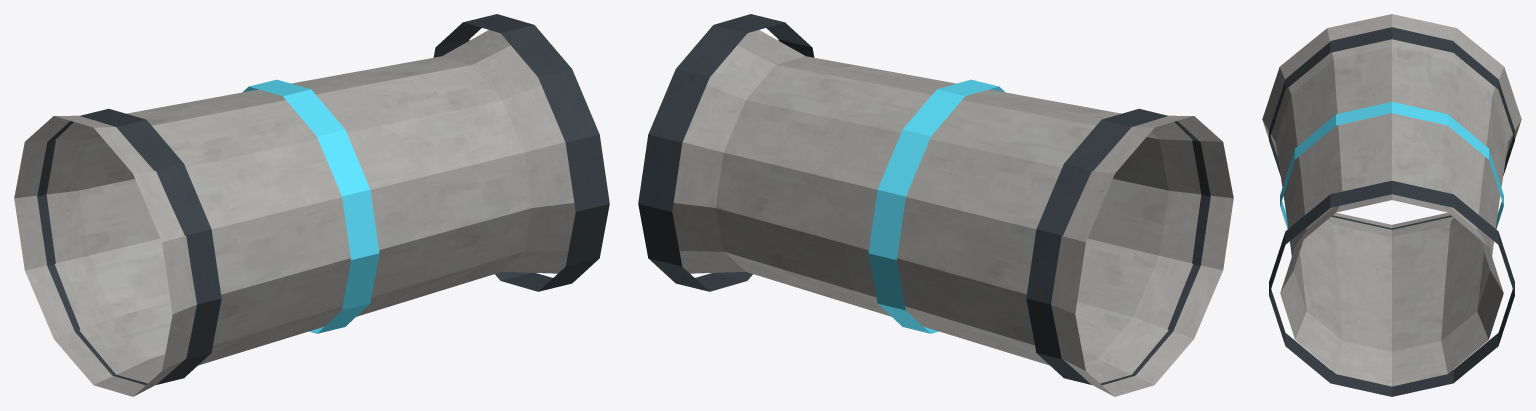
Rendered from eq_future_2_arm.glb.
3 renders of one model, left to right at view 1: azimuth 30°, elevation 25°; view 2: azimuth 150°, elevation 25°; view 3: azimuth 270°, elevation 25°, orthographic. The views are drawn at different scales.
Visible parts, largest first — view 1: eq_future_2_arm; view 2: eq_future_2_arm; view 3: eq_future_2_arm.
Boxes of the visible parts, box(x1,y1,x2,y2) form: eq_future_2_arm: box(14, 14, 609, 396); eq_future_2_arm: box(638, 14, 1233, 396); eq_future_2_arm: box(1262, 14, 1521, 396).
Bounding box in the file's own units: 0.2423 × 0.1352 × 0.1508.
Materials: 3 (2 with a texture image).
